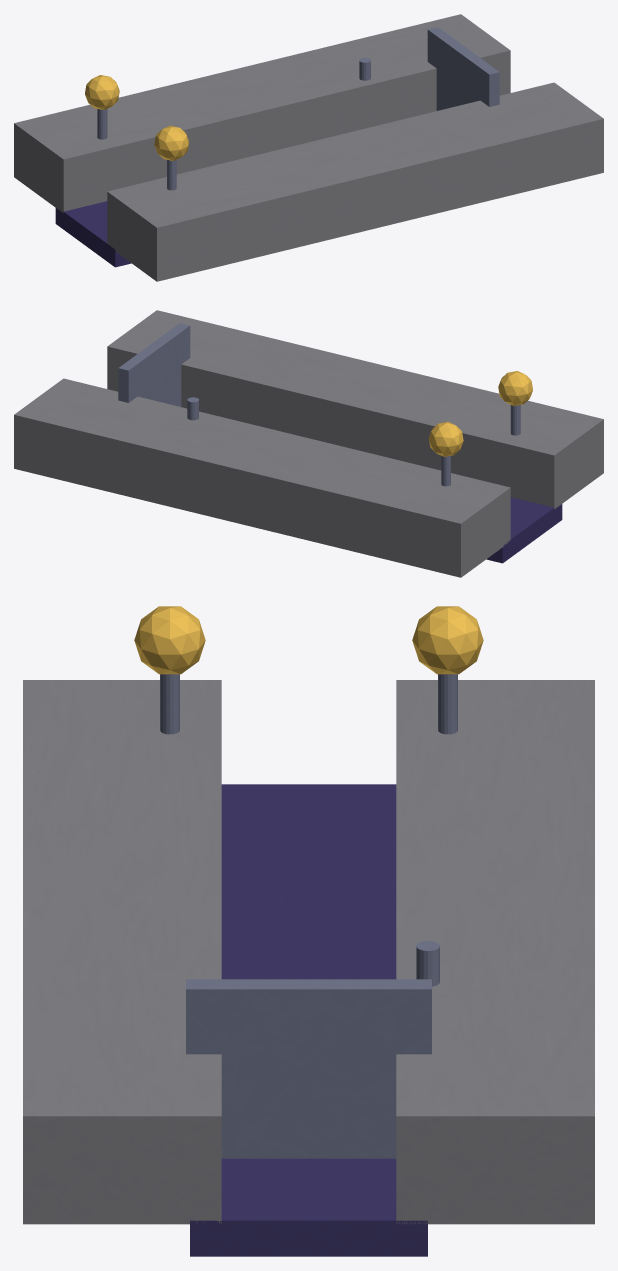
File: starless-canal.glb
The picture shows the model from 3 angles, top to bottom: view 1: azimuth 30°, elevation 25°; view 2: azimuth 150°, elevation 25°; view 3: azimuth 270°, elevation 25°; orthographic projection. The views are drawn at different scales.
Visible parts, largest first — view 1: canal-right-bank, canal-left-bank, canal-floodgate, canal-channel-floor, canal-lantern-0, canal-lantern-1; view 2: canal-left-bank, canal-right-bank, canal-floodgate, canal-channel-floor, canal-lantern-0, canal-lantern-1; view 3: canal-right-bank, canal-left-bank, canal-channel-floor, canal-floodgate, canal-lantern-0, canal-lantern-1, canal-lantern-post-0, canal-lantern-post-1, canal-mooring-post.
Boxes of the visible parts, x1,y1,x2,y2 form: canal-right-bank: (107,82,603,281); canal-left-bank: (14,14,510,213); canal-floodgate: (427,27,499,110); canal-channel-floor: (55,201,131,267); canal-lantern-0: (85,75,119,109); canal-lantern-1: (154,126,189,160); canal-left-bank: (14,378,510,577); canal-right-bank: (107,310,603,509); canal-floodgate: (118,323,190,406); canal-channel-floor: (486,497,562,563); canal-lantern-0: (428,422,463,456); canal-lantern-1: (498,371,532,405); canal-right-bank: (23,680,221,1224); canal-left-bank: (396,680,594,1224); canal-channel-floor: (190,784,427,1256); canal-floodgate: (186,979,431,1158); canal-lantern-0: (412,606,483,674); canal-lantern-1: (134,606,205,674); canal-lantern-post-0: (438,674,457,734); canal-lantern-post-1: (160,674,179,734); canal-mooring-post: (416,941,439,986).
Size of the model in its own units: 2.6 by 0.73 by 1.44.
4 materials, 4 textured.
